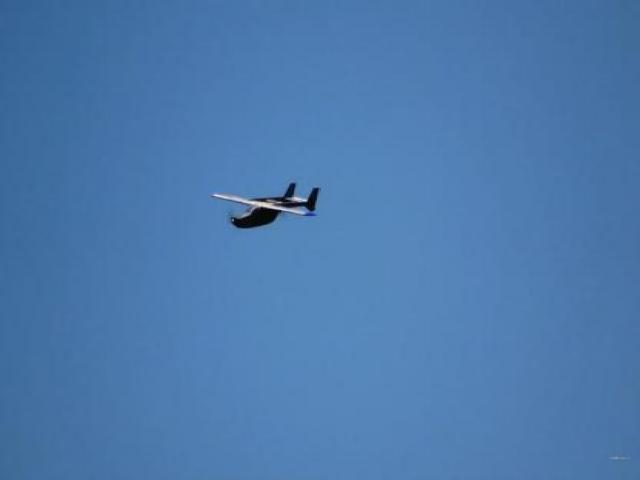uav: (206, 177, 326, 230)
